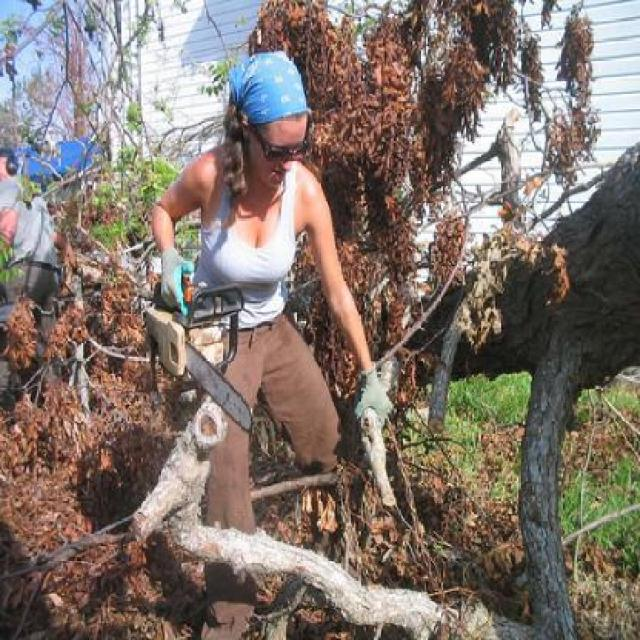Chainsaw: (141, 273, 262, 435)
